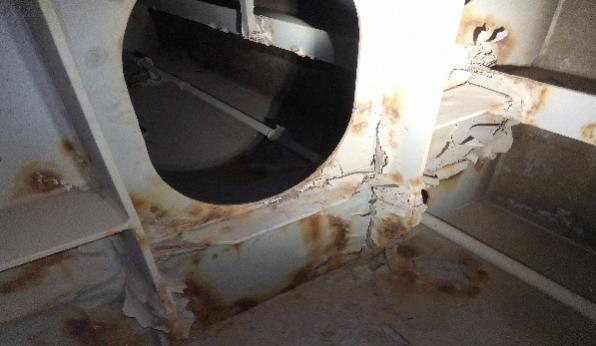corrosion: (169, 257, 243, 326), (0, 250, 84, 301), (300, 214, 357, 281), (16, 136, 82, 192), (431, 263, 503, 311), (462, 11, 521, 65), (505, 67, 555, 121), (57, 312, 123, 346), (392, 237, 431, 284), (137, 188, 182, 228), (379, 93, 406, 149), (362, 152, 412, 182), (181, 200, 236, 224), (347, 99, 375, 137), (270, 186, 307, 211), (320, 159, 350, 189), (375, 216, 407, 244), (441, 170, 471, 199), (577, 117, 596, 148)
